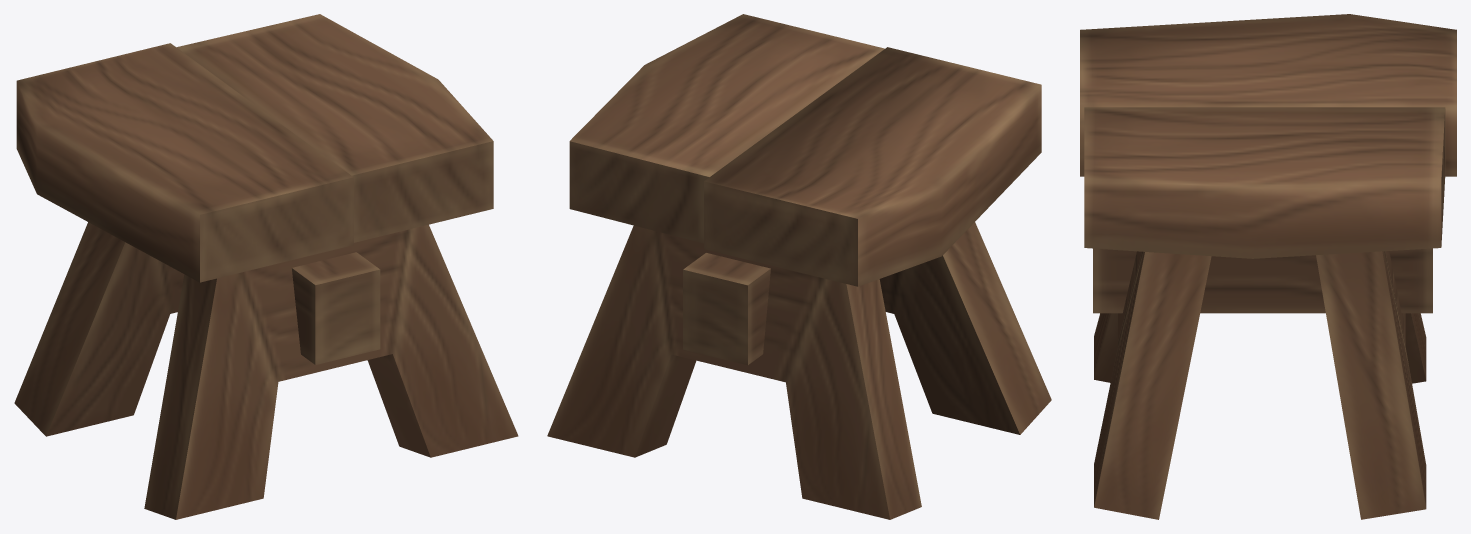
The model's file is Bench2.fbx.
The picture shows the model from 3 angles, left to right: view 1: azimuth 30°, elevation 25°; view 2: azimuth 150°, elevation 25°; view 3: azimuth 270°, elevation 25°; orthographic projection. The views are drawn at different scales.
Parts seen in each view (by area): view 1: polySurface2063; view 2: polySurface2063; view 3: polySurface2063.
Part boxes in pixels (x1,y1,x2,y2): polySurface2063: (14, 14, 518, 519); polySurface2063: (547, 14, 1051, 519); polySurface2063: (1080, 14, 1456, 519).
Bounding box in the file's own units: 61.7 × 52.46 × 54.85.
1 material, 1 textured.
